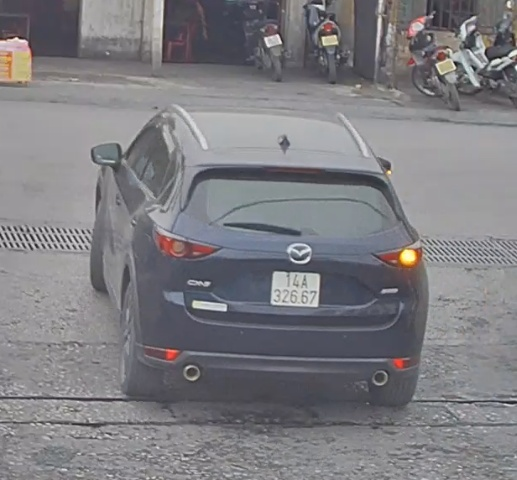vehicle plate: (270, 266, 322, 311)
